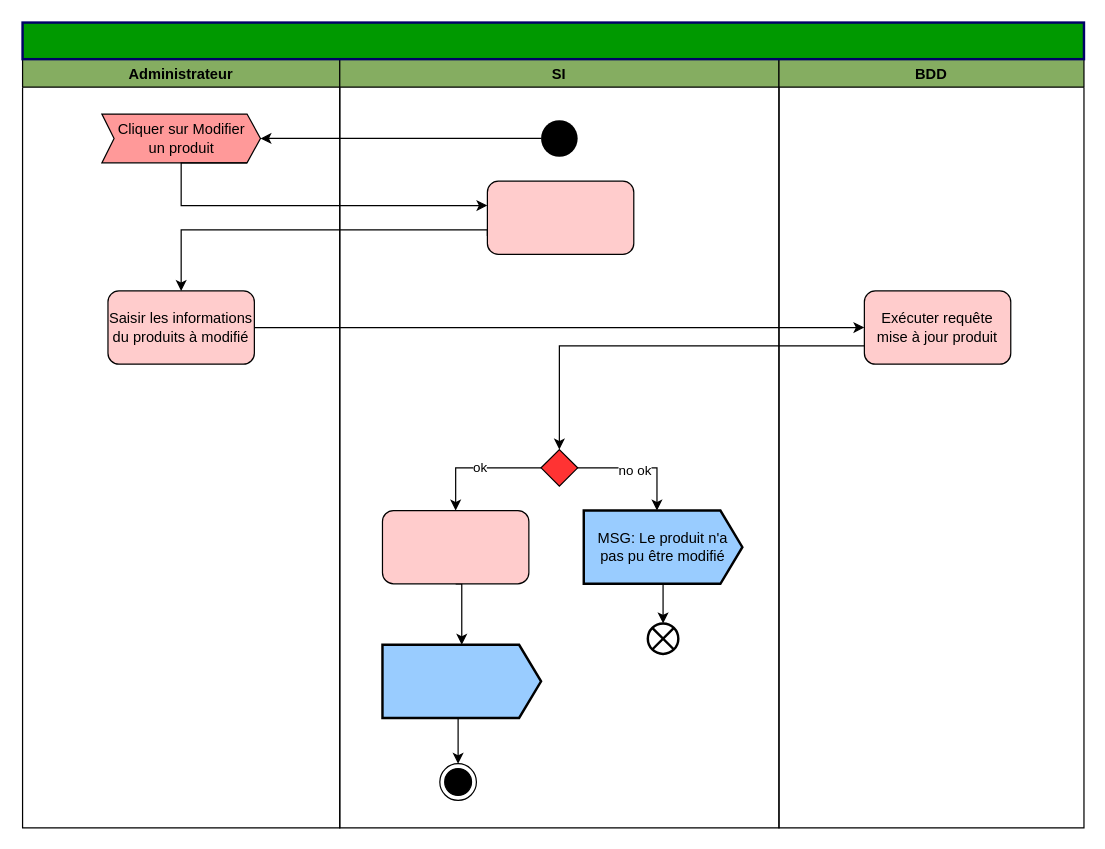
This 1105x849 diagram has some shape labels left out. Each missing label, with the centre of its shape:
Demander informations du produit à modifié: point 560,217
Le produit à été modifié: point 461,681
Modifier le produit du catalogue: point 455,546
Modifier un produit: point 553,40
